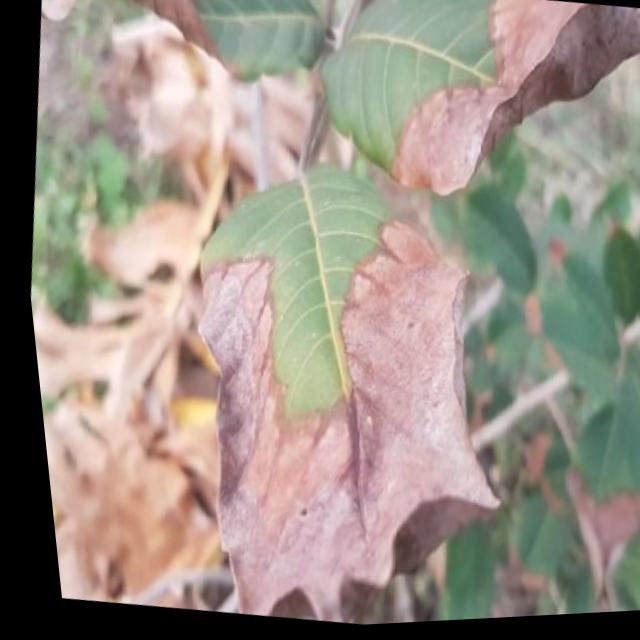Leaf Blight: (134, 169, 536, 635), (365, 0, 640, 215), (22, 0, 277, 166)
